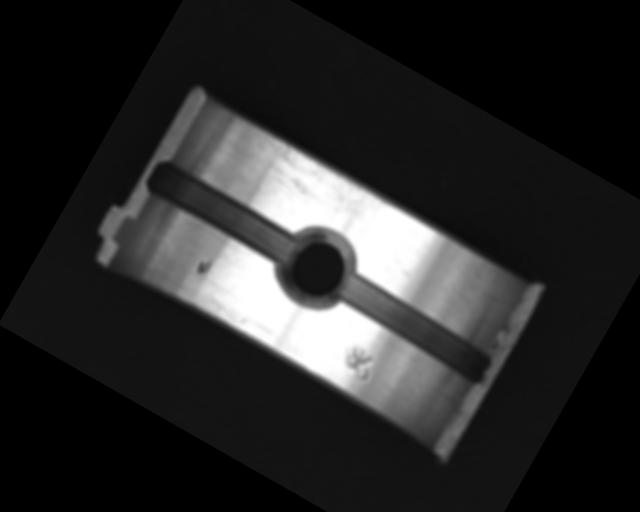blot: (194, 254, 212, 276)
bruise: (336, 342, 379, 383)
gap: (330, 268, 499, 390), (141, 156, 303, 270)
hole: (265, 214, 369, 322)
scratch: (236, 128, 395, 246)
